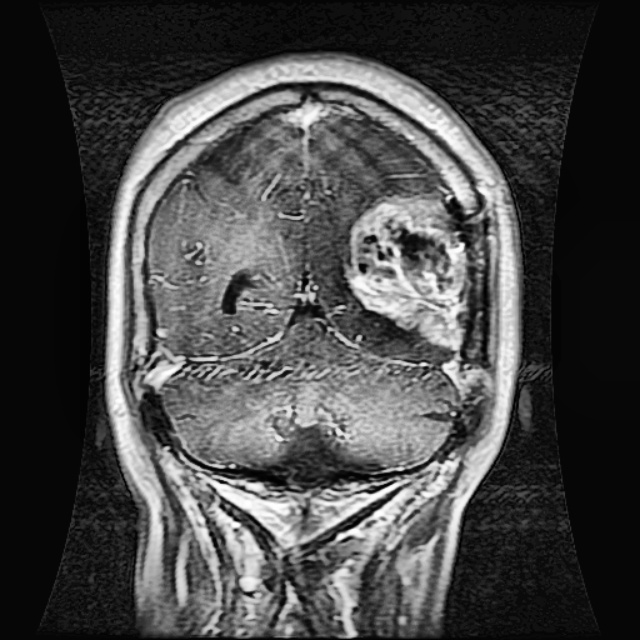Meningioma: (343, 193, 470, 352)
